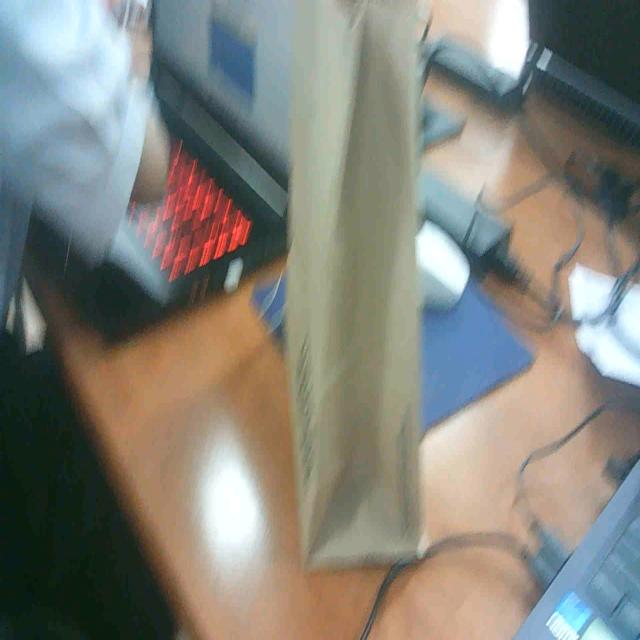bag: (275, 0, 429, 543)
